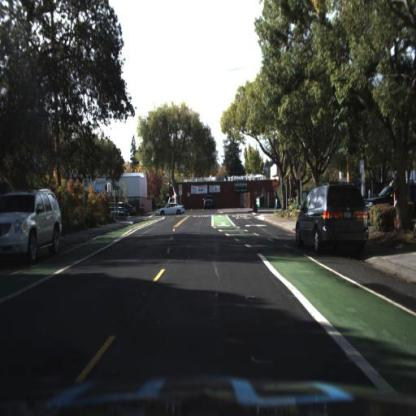car: (292, 179, 371, 256), (1, 184, 62, 267), (156, 202, 187, 218), (112, 199, 138, 218), (157, 202, 185, 217), (118, 200, 137, 221), (204, 193, 218, 214), (206, 190, 220, 206)
